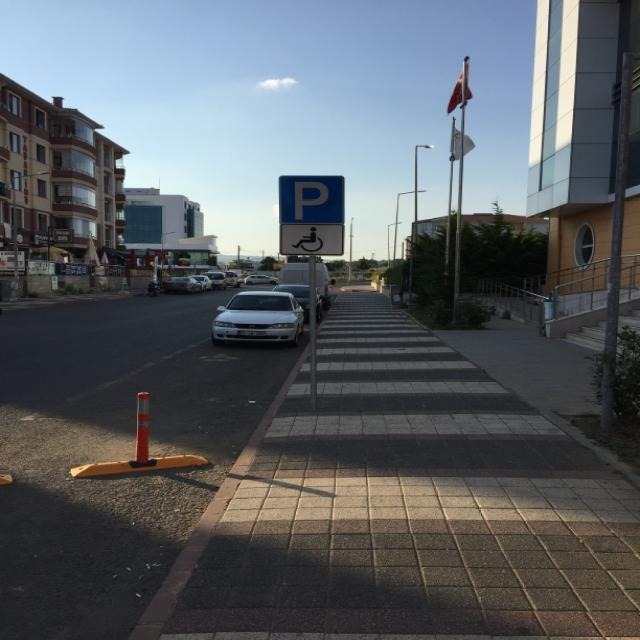park: (280, 177, 346, 224)
